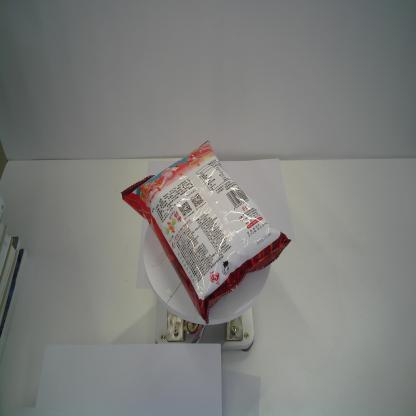Puffed Food: (121, 139, 292, 324)
